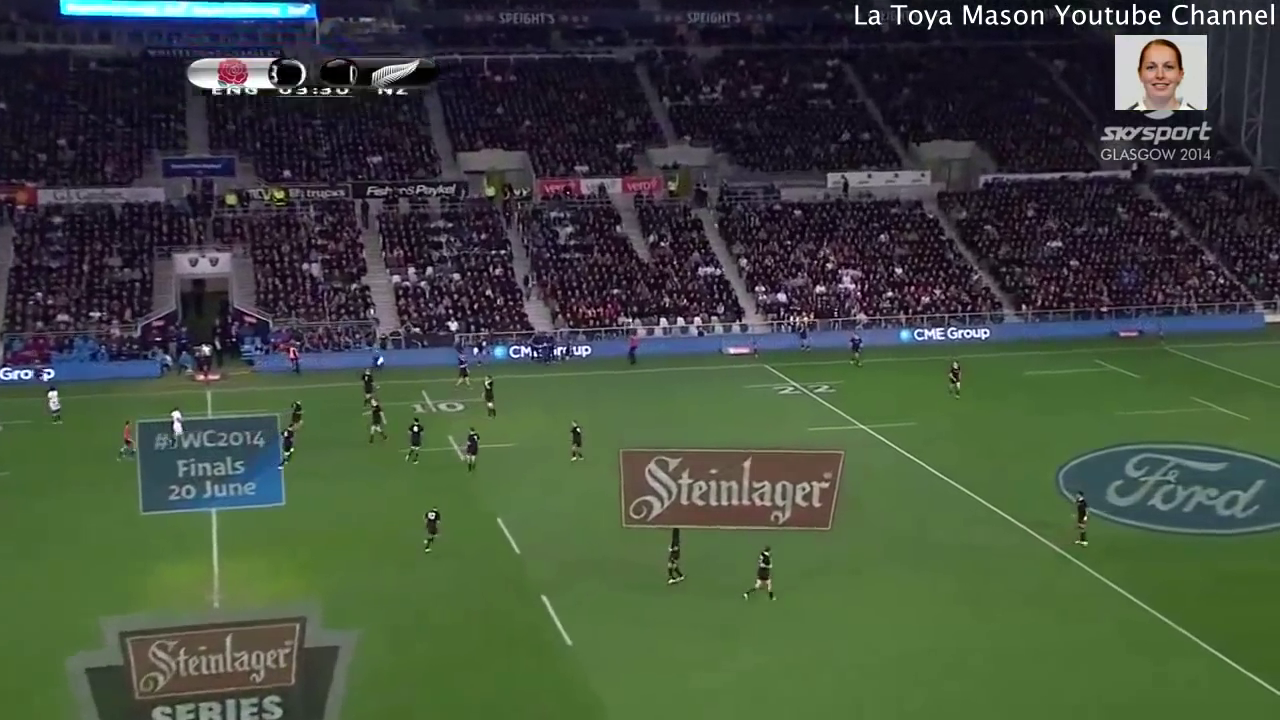10_metre: (401, 431, 527, 472), (377, 388, 488, 421)
player: (736, 540, 789, 609), (662, 521, 693, 592), (1066, 486, 1094, 552), (359, 394, 391, 447), (457, 421, 485, 480), (401, 419, 432, 472), (562, 414, 590, 468), (417, 502, 443, 557), (114, 415, 139, 468), (41, 385, 69, 426), (477, 372, 499, 424), (845, 330, 869, 377), (166, 408, 190, 452), (451, 352, 476, 390), (352, 366, 378, 402), (943, 358, 966, 397), (275, 428, 296, 469), (285, 399, 305, 436)
